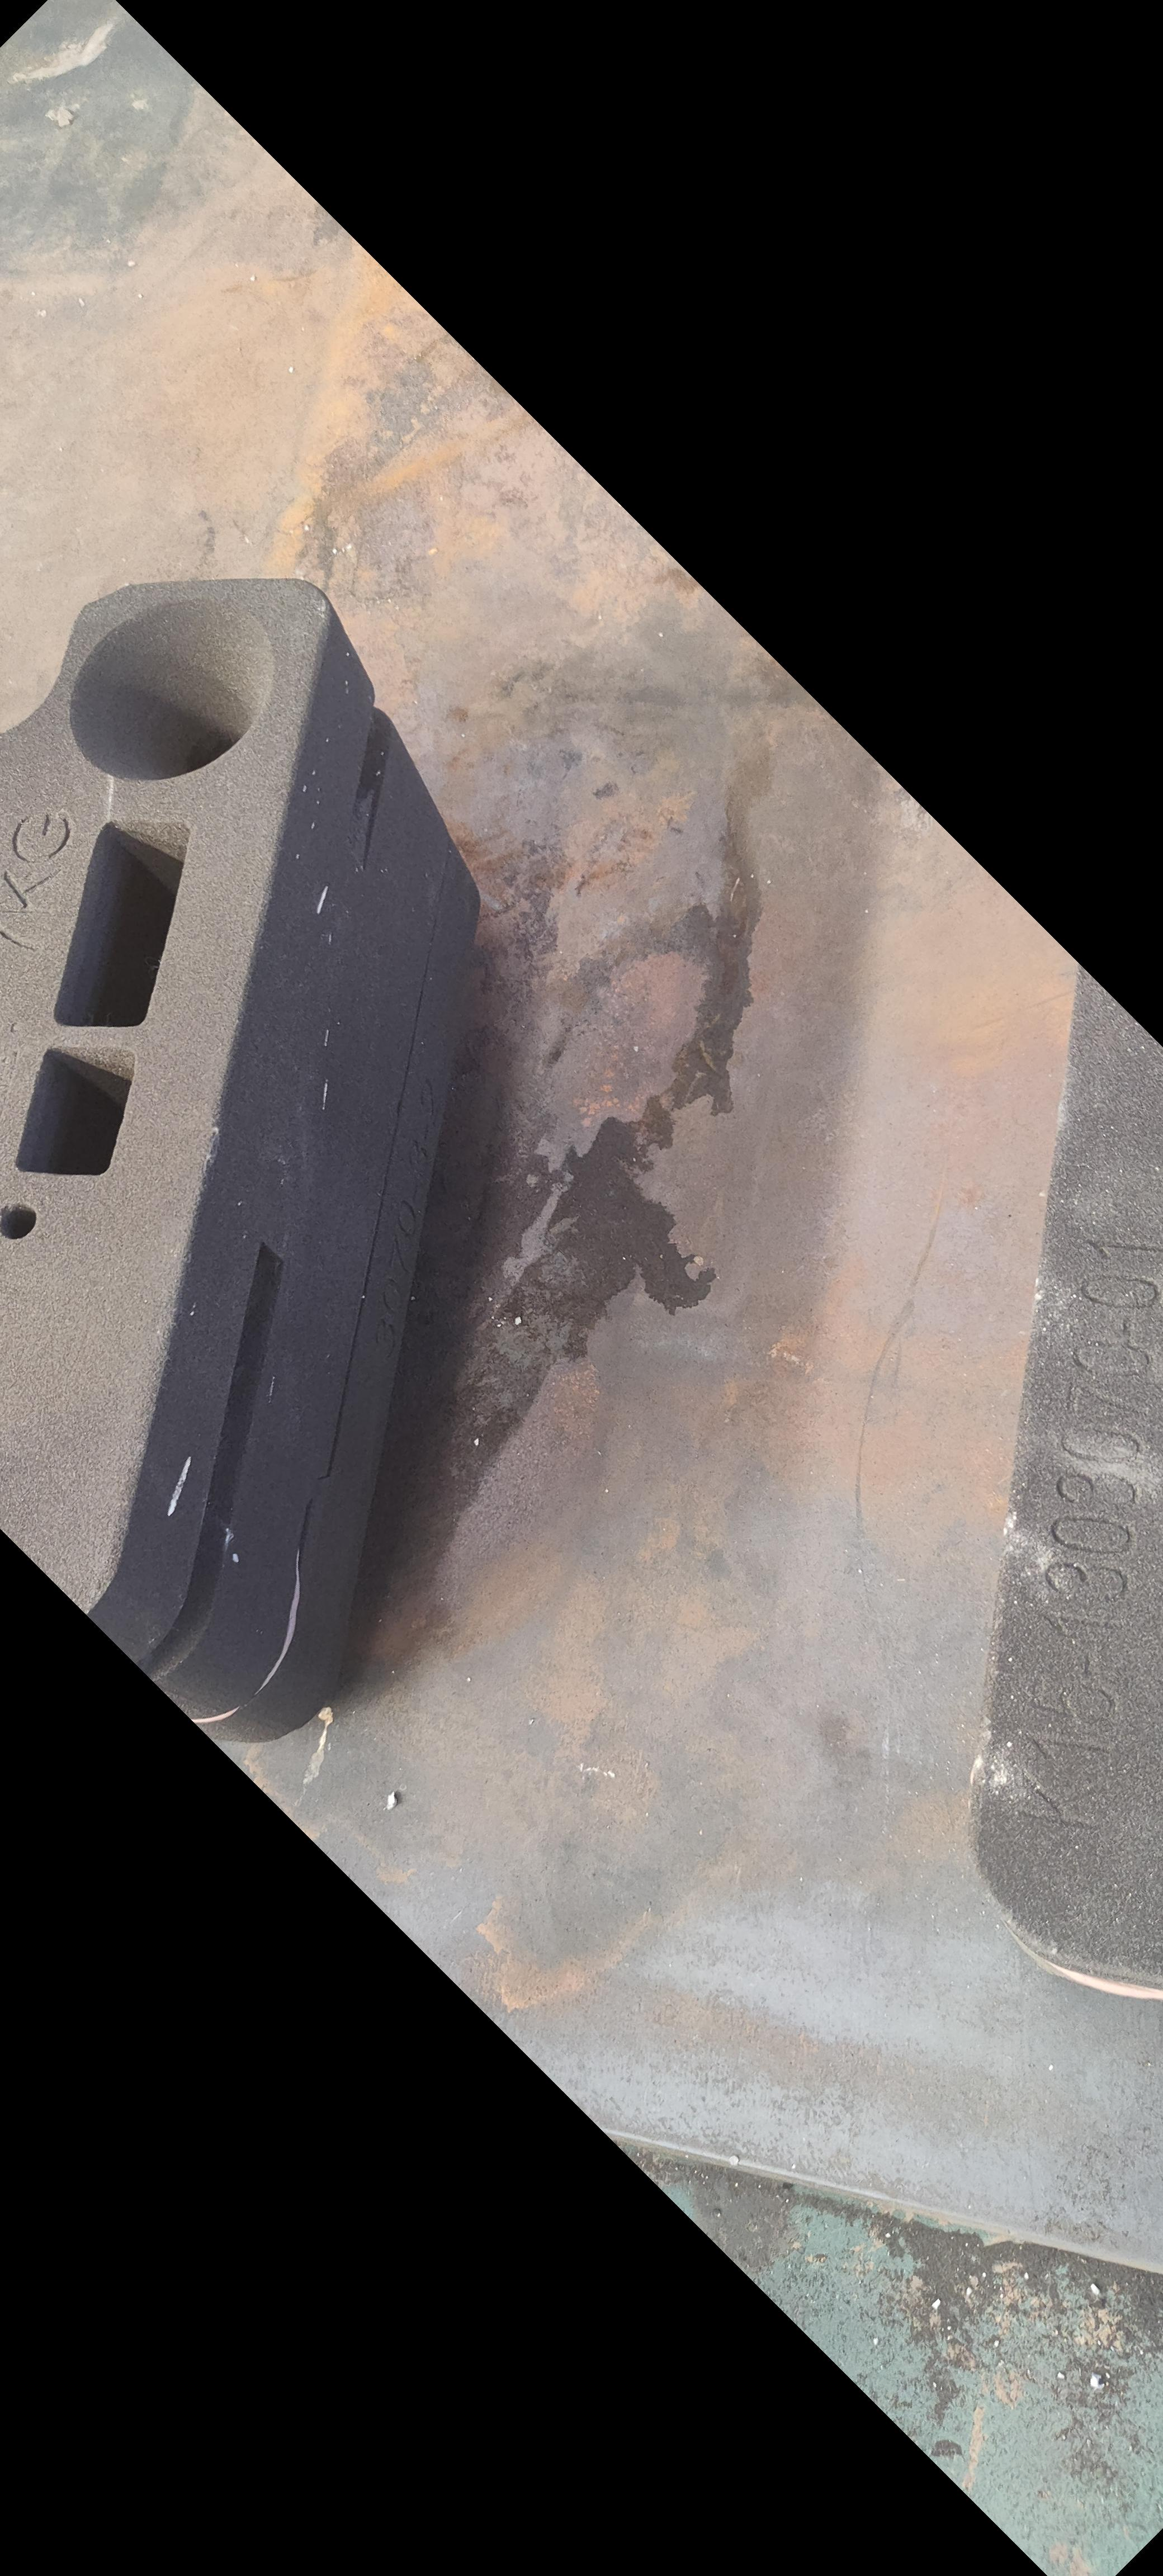pouring hole: (69, 598, 274, 782)
